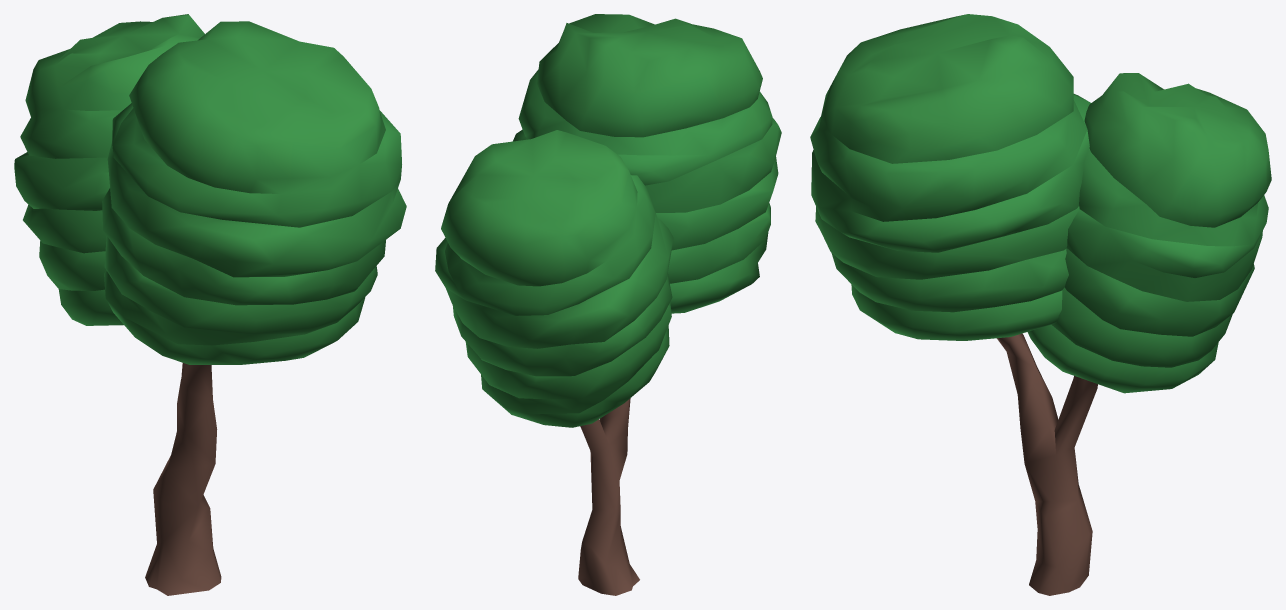
Rendered from fabulous_tree_020.glb.
3 renders of one model, left to right at view 1: azimuth 30°, elevation 25°; view 2: azimuth 150°, elevation 25°; view 3: azimuth 270°, elevation 25°, orthographic. The views are drawn at different scales.
Visible parts, largest first — view 1: fabulous_tree_020; view 2: fabulous_tree_020; view 3: fabulous_tree_020.
Boxes of the visible parts, x1,y1,x2,y2 form: fabulous_tree_020: [14, 14, 406, 595]; fabulous_tree_020: [435, 14, 781, 595]; fabulous_tree_020: [810, 14, 1271, 595].
Bounding box in the file's own units: 3.54 × 7.51 × 5.7.
Materials: 1 (1 with a texture image).
